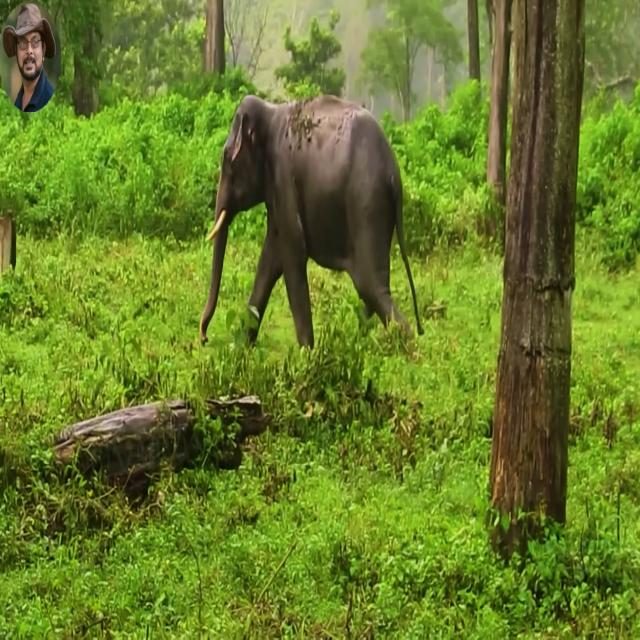Elephant: (199, 92, 424, 352)
